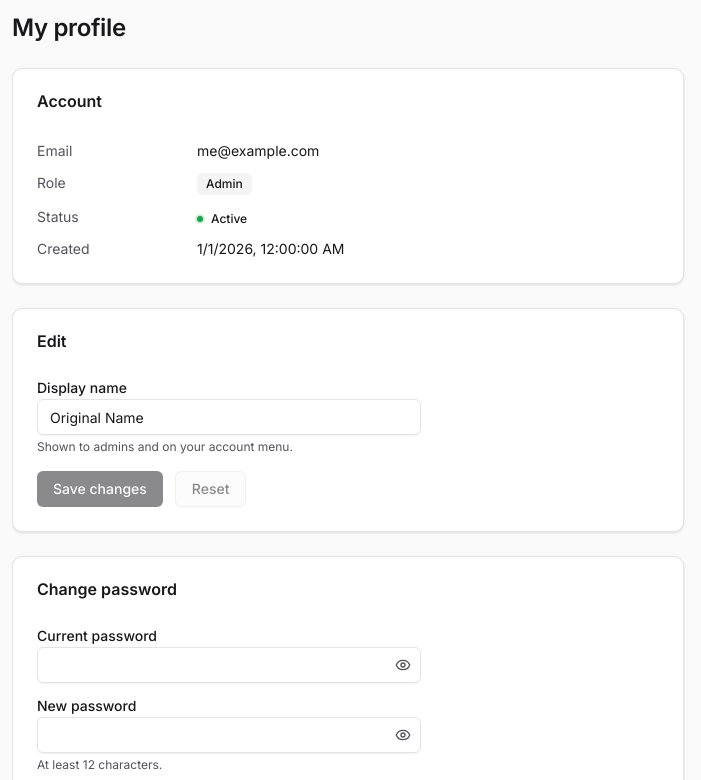
Test case: ProfileEditor › falls back to a generic profile error when no detail is present
Replace the text in the field labelled "Display name" with "Whatever" at (229, 417), box [37,399,421,435]
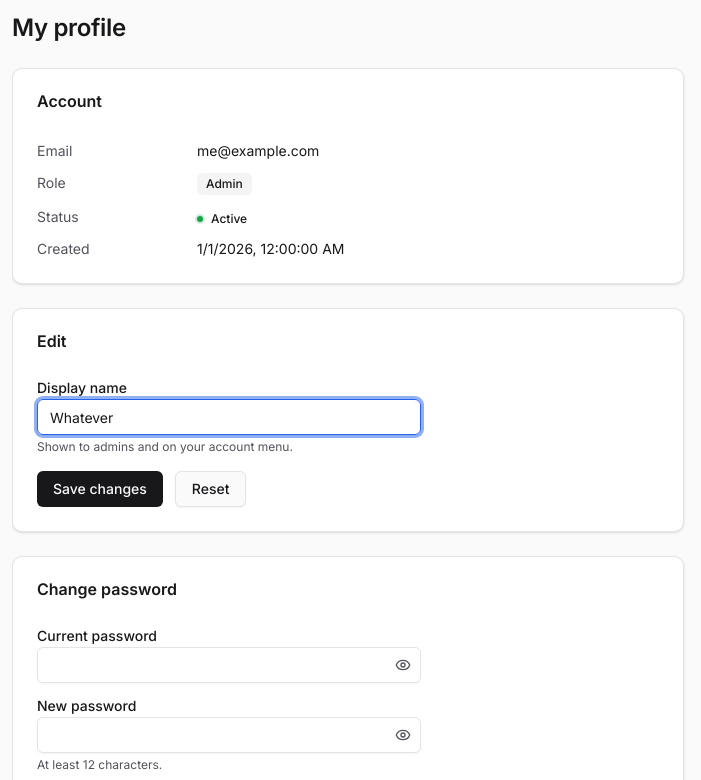
Click the button "Save changes" at (100, 489), box [37,471,163,507]
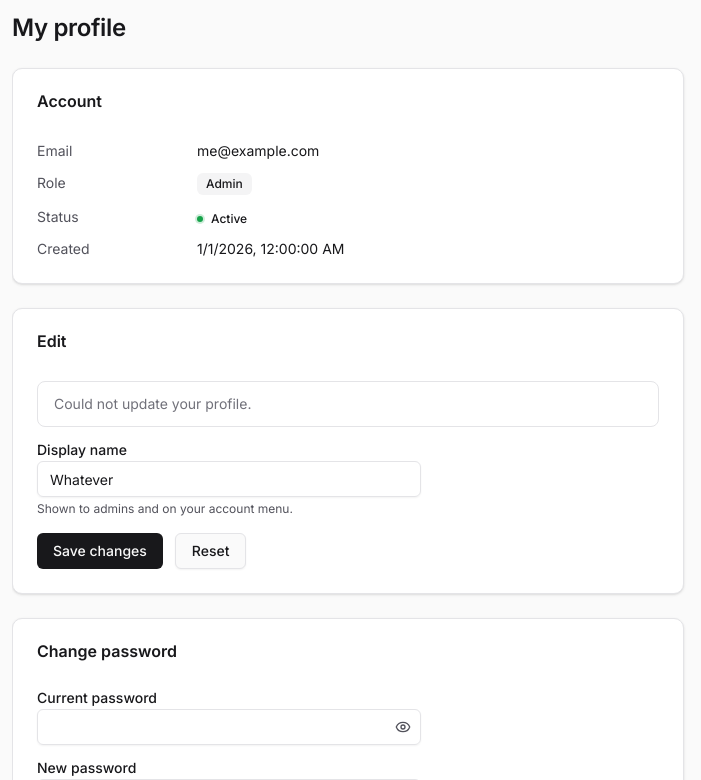
Expected: the text "Could not update your profile." is shown, [54,395,252,412]
